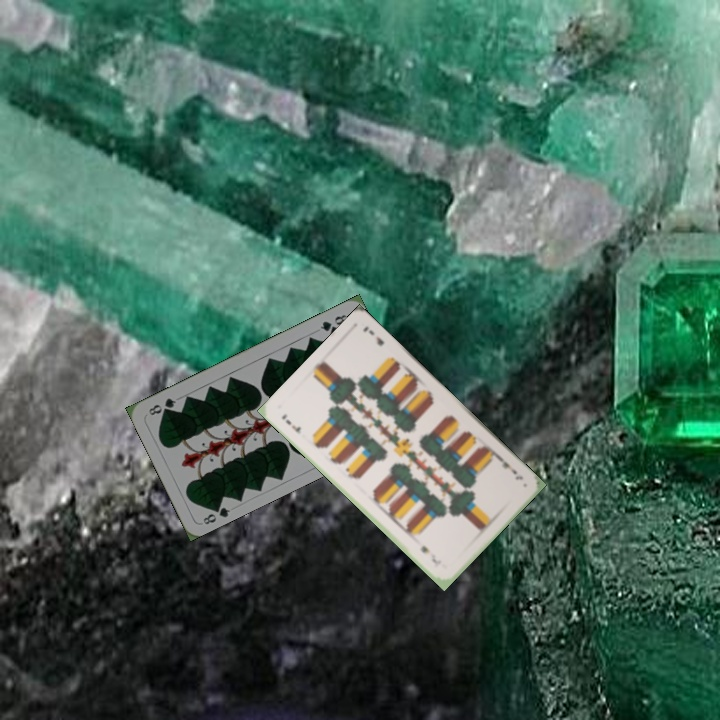E7: (494, 453, 525, 483), (277, 409, 303, 436)
G8: (199, 500, 233, 527), (316, 310, 350, 334)
